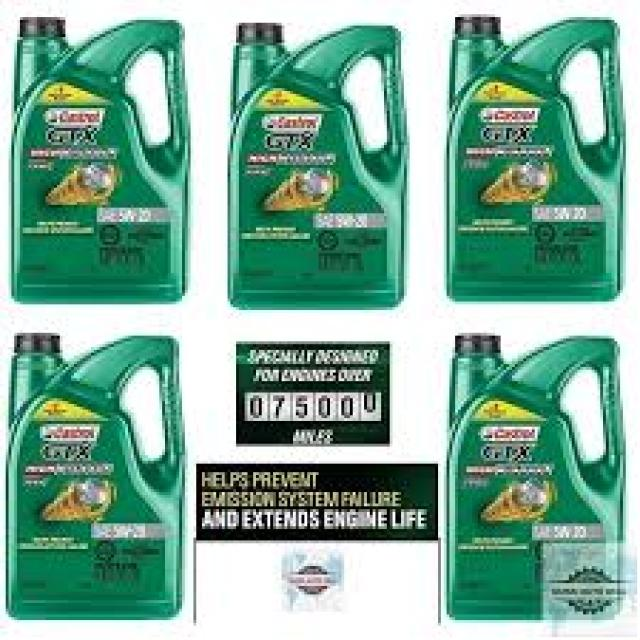motor_oil: (3, 326, 194, 623), (443, 9, 629, 310), (231, 15, 413, 322), (6, 10, 192, 305), (446, 329, 631, 625)
